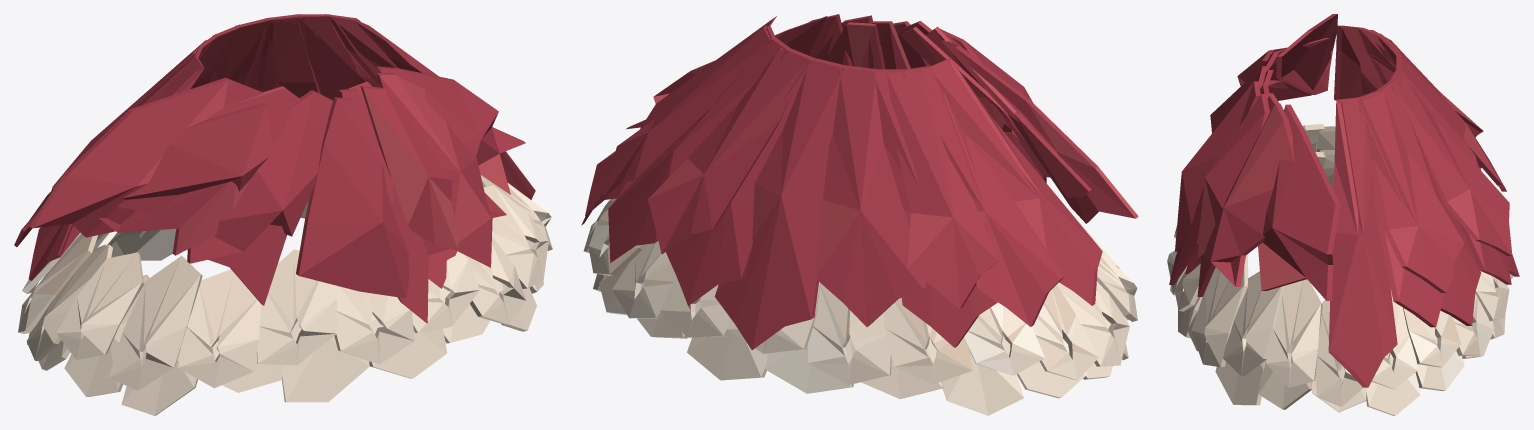
File: skirt.glb
The picture shows the model from 3 angles, left to right: view 1: azimuth 30°, elevation 25°; view 2: azimuth 150°, elevation 25°; view 3: azimuth 270°, elevation 25°; orthographic projection. The views are drawn at different scales.
Parts seen in each view (by area): view 1: Skirt • reference central broad triangular fan, Skirt • reference left side returning fold, Skirt • reference left diagonal broad fan, Skirt • reference left short overlapping fold, Skirt • reference right long broad fan, Petticoat • broad ruffle 1.18, Petticoat • broad ruffle 1.17, Skirt • reference right folded outer blade, Petticoat • broad ruffle 1.19, Petticoat • broad ruffle 1.16, Skirt • reference right side returning fold, Skirt • reference left long outer blade (+27 smaller); view 2: Skirt • rear long crease 09, Skirt • rear long crease 10, Skirt • rear overlapping crease 06, Skirt • rear overlapping crease 04, Skirt • rear long crease 12, Skirt • rear long crease 13, Skirt • rear long crease 08, Skirt • rear long crease 07, Skirt • rear overlapping crease 03, Skirt • reference left side returning fold, Petticoat • broad ruffle 1.11, Skirt • rear long crease 11 (+26 smaller); view 3: Skirt • rear long crease 05, Skirt • rear overlapping crease 03, Skirt • reference right side returning fold, Skirt • reference right folded outer blade, Skirt • rear overlapping crease 04, Petticoat • broad ruffle 1.04, Skirt • rear long crease 07, Petticoat • broad ruffle 1.03, Skirt • reference right long broad fan, Petticoat • broad ruffle 1.02, Skirt • reference central broad triangular fan, Skirt • rear long crease 13 (+25 smaller).
Part boxes in pixels (x1=…): Skirt • reference central broad triangular fan: x1=296, y1=97, x2=408, y2=298; Skirt • reference left side returning fold: x1=30, y1=77, x2=262, y2=237; Skirt • reference left diagonal broad fan: x1=187, y1=90, x2=332, y2=263; Skirt • reference left short overlapping fold: x1=117, y1=98, x2=295, y2=214; Skirt • reference right long broad fan: x1=360, y1=85, x2=458, y2=250; Petticoat • broad ruffle 1.18: x1=178, y1=269, x2=261, y2=388; Petticoat • broad ruffle 1.17: x1=108, y1=255, x2=202, y2=390; Skirt • reference right folded outer blade: x1=376, y1=72, x2=506, y2=267; Petticoat • broad ruffle 1.19: x1=256, y1=249, x2=336, y2=365; Petticoat • broad ruffle 1.16: x1=56, y1=252, x2=143, y2=359; Skirt • reference right side returning fold: x1=376, y1=66, x2=525, y2=194; Skirt • reference left long outer blade: x1=99, y1=86, x2=300, y2=255; Skirt • rear long crease 09: x1=714, y1=57, x2=845, y2=350; Skirt • rear long crease 10: x1=815, y1=65, x2=926, y2=326; Skirt • rear overlapping crease 06: x1=887, y1=70, x2=1000, y2=308; Skirt • rear overlapping crease 04: x1=648, y1=47, x2=806, y2=254; Skirt • rear long crease 12: x1=903, y1=65, x2=1064, y2=326; Skirt • rear long crease 13: x1=929, y1=58, x2=1102, y2=305; Skirt • rear long crease 08: x1=666, y1=48, x2=814, y2=306; Skirt • rear long crease 07: x1=608, y1=37, x2=791, y2=262; Skirt • rear overlapping crease 03: x1=603, y1=25, x2=770, y2=198; Skirt • reference left side returning fold: x1=942, y1=40, x2=1138, y2=223; Petticoat • broad ruffle 1.11: x1=807, y1=283, x2=891, y2=385; Skirt • rear long crease 11: x1=872, y1=69, x2=997, y2=347; Skirt • rear long crease 05: x1=1328, y1=97, x2=1397, y2=387; Skirt • rear overlapping crease 03: x1=1357, y1=92, x2=1464, y2=292; Skirt • reference right side returning fold: x1=1258, y1=104, x2=1340, y2=300; Skirt • reference right folded outer blade: x1=1197, y1=103, x2=1296, y2=296; Skirt • rear overlapping crease 04: x1=1391, y1=73, x2=1512, y2=255; Petticoat • broad ruffle 1.04: x1=1266, y1=279, x2=1322, y2=387; Skirt • rear long crease 07: x1=1376, y1=80, x2=1480, y2=325; Petticoat • broad ruffle 1.03: x1=1223, y1=271, x2=1284, y2=375; Skirt • reference right long broad fan: x1=1198, y1=94, x2=1269, y2=259; Petticoat • broad ruffle 1.02: x1=1191, y1=254, x2=1248, y2=367; Skirt • reference central broad triangular fan: x1=1175, y1=81, x2=1260, y2=251; Skirt • rear long crease 13: x1=1334, y1=25, x2=1387, y2=100.
Bounding box in the file's own units: 2.72 × 1.45 × 1.77.
